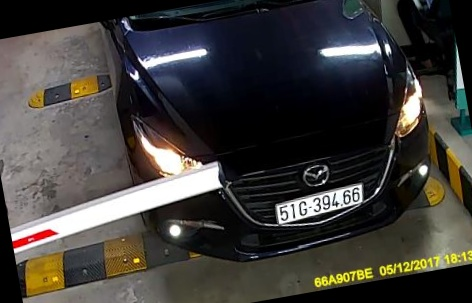plate: (270, 183, 369, 227)
